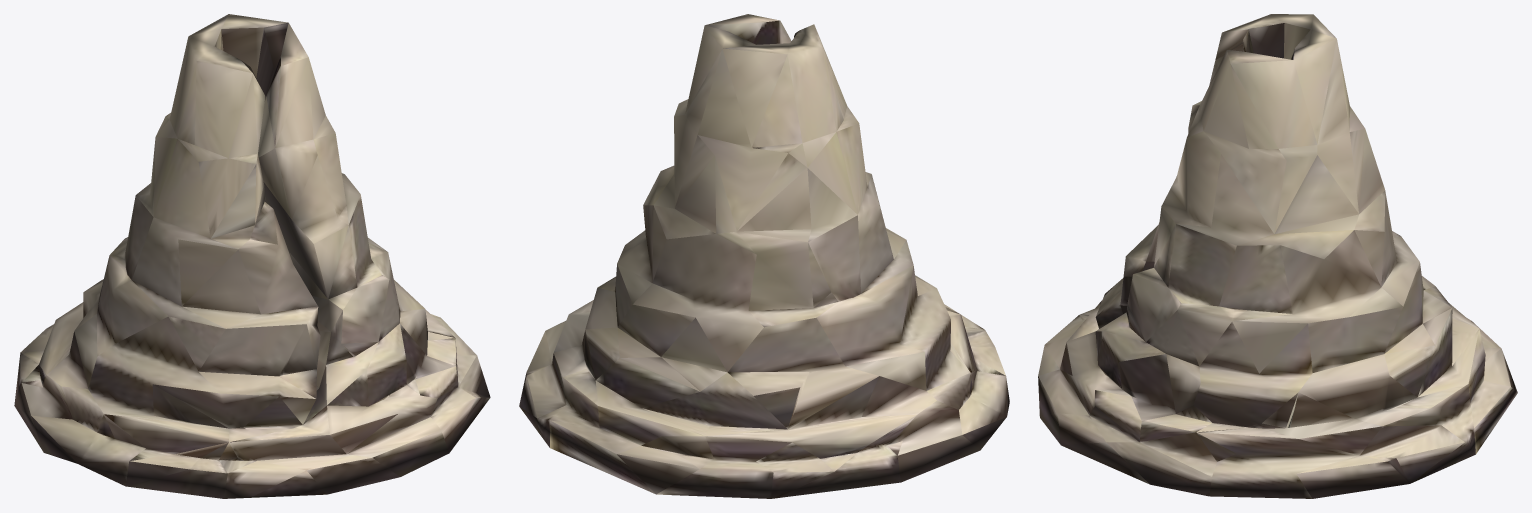
Rendered from repere-chaudron-loin.glb.
The picture shows the model from 3 angles, left to right: view 1: azimuth 30°, elevation 25°; view 2: azimuth 150°, elevation 25°; view 3: azimuth 270°, elevation 25°; orthographic projection. The views are drawn at different scales.
Visible parts, largest first — view 1: repere-chaudron-loin; view 2: repere-chaudron-loin; view 3: repere-chaudron-loin.
Boxes of the visible parts, x1=… form: repere-chaudron-loin: x1=14, y1=14, x2=490, y2=498; repere-chaudron-loin: x1=519, y1=14, x2=1009, y2=498; repere-chaudron-loin: x1=1038, y1=14, x2=1517, y2=498.
Size of the model in its own units: 1.9 by 1.61 by 1.89.
Materials: 1 (1 with a texture image).
